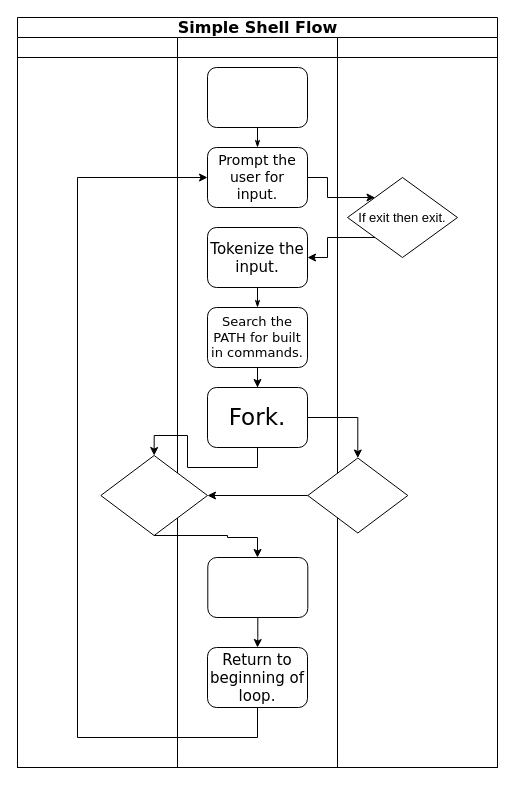
Some shapes in this 515 by 785 pixel diagram are drawn without their labels. The centre of each missing label's shape, as x and y in pixels:
"Child executes." belongs at [357,495].
"Execute." belongs at [257,587].
"Parent waits." belongs at [154,495].
"Start the shell." belongs at [257,97].
